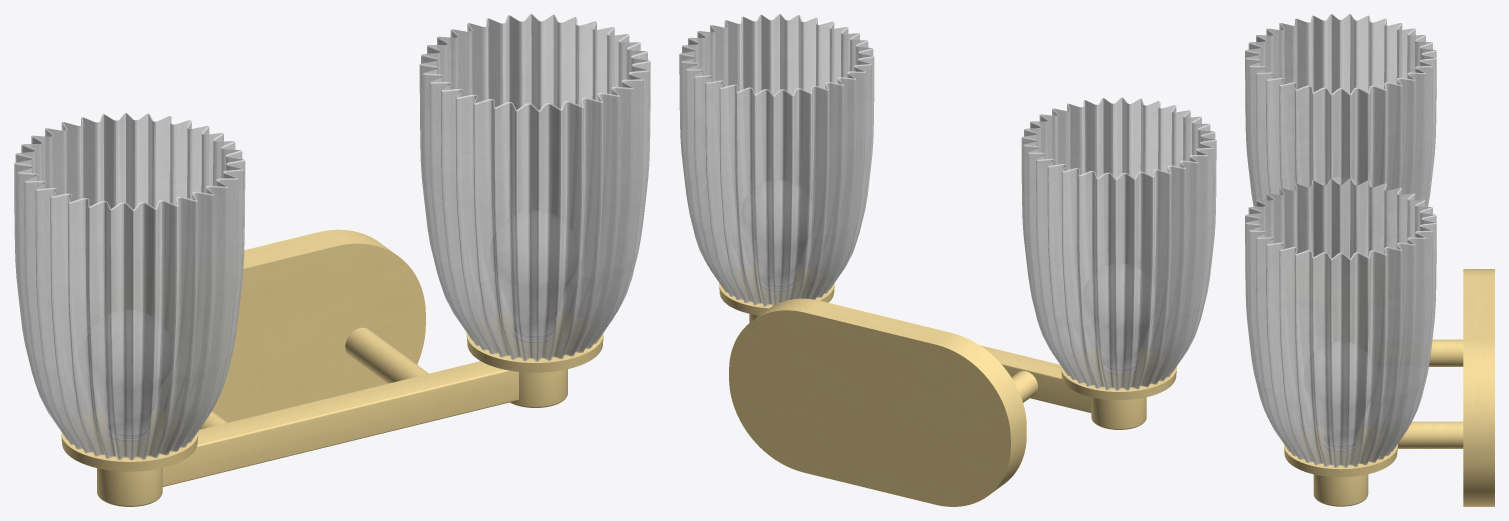
Rendered from baldwin-vanity-light.glb.
3 renders of one model, left to right at view 1: azimuth 30°, elevation 25°; view 2: azimuth 150°, elevation 25°; view 3: azimuth 270°, elevation 25°, orthographic. The views are drawn at different scales.
Visible parts, largest first — view 1: sub (×2), Cube, Cube.001, holder, holder.001, Cylinder.001; view 2: sub (×2), Cube, holder, Cube.001, holder.001; view 3: sub (×2), Cube, holder.001, Cylinder.001, Cylinder.
Part boxes in pixels (x1,y1,x2,y2): sub (×2): [14, 14, 650, 460]; Cube: [212, 229, 425, 422]; Cube.001: [162, 361, 518, 486]; holder: [61, 432, 198, 506]; holder.001: [466, 333, 603, 407]; Cylinder.001: [345, 327, 428, 383]; sub (×2): [679, 14, 1216, 390]; Cube: [729, 298, 1026, 506]; holder: [1061, 367, 1176, 429]; Cube.001: [980, 345, 1091, 412]; holder.001: [719, 283, 834, 322]; sub (×2): [1245, 14, 1436, 467]; Cube: [1463, 269, 1494, 506]; holder.001: [1284, 444, 1397, 506]; Cylinder.001: [1397, 421, 1463, 448]; Cylinder: [1429, 339, 1463, 366].
Bounding box in the file's own units: 0.841 × 0.5276 × 0.3614.
6 materials, 3 textured.
